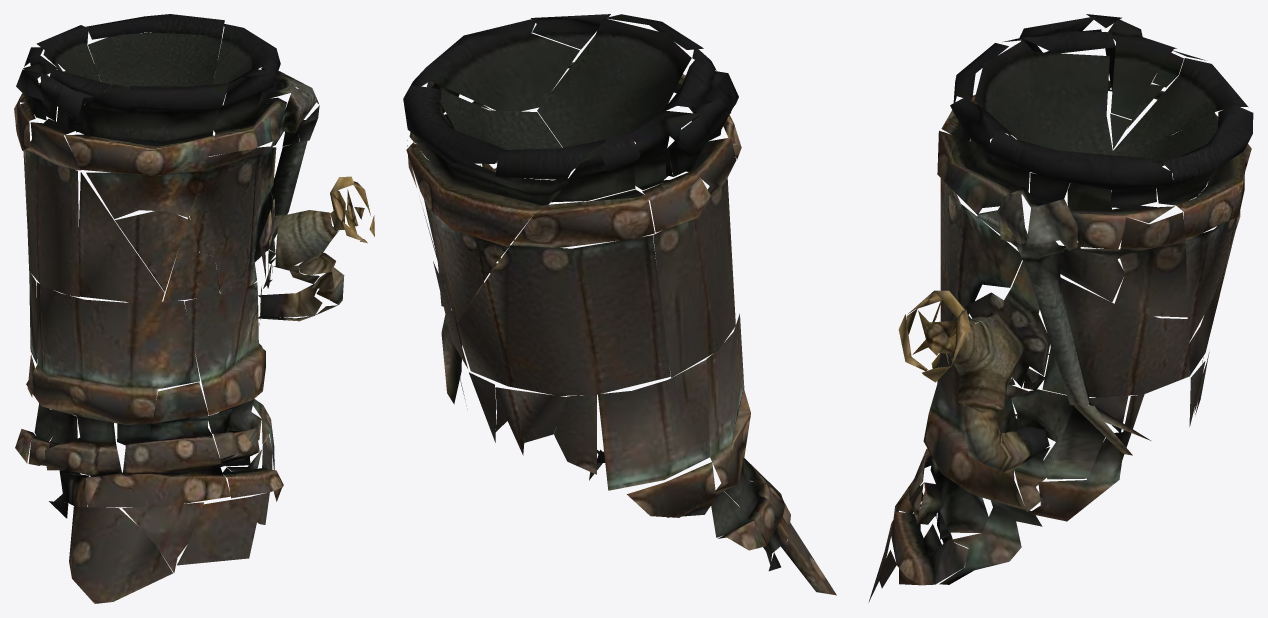
File: a_sluice_gauntlet.glb
3 views of the same model, side by side, from view 1: azimuth 30°, elevation 25°; view 2: azimuth 150°, elevation 25°; view 3: azimuth 270°, elevation 25° (orthographic). The views are drawn at different scales.
Visible parts, largest first — view 1: tripo_node_b14e2996-0eb6-48ed-994d-9695298e9ffa; view 2: tripo_node_b14e2996-0eb6-48ed-994d-9695298e9ffa; view 3: tripo_node_b14e2996-0eb6-48ed-994d-9695298e9ffa.
Part boxes in pixels (box(x1,y1,x2,y2)): tripo_node_b14e2996-0eb6-48ed-994d-9695298e9ffa: box(14, 14, 374, 603); tripo_node_b14e2996-0eb6-48ed-994d-9695298e9ffa: box(403, 14, 836, 595); tripo_node_b14e2996-0eb6-48ed-994d-9695298e9ffa: box(868, 14, 1253, 602).
Bounding box in the file's own units: 0.1763 × 0.254 × 0.1609.
1 material, 1 textured.
